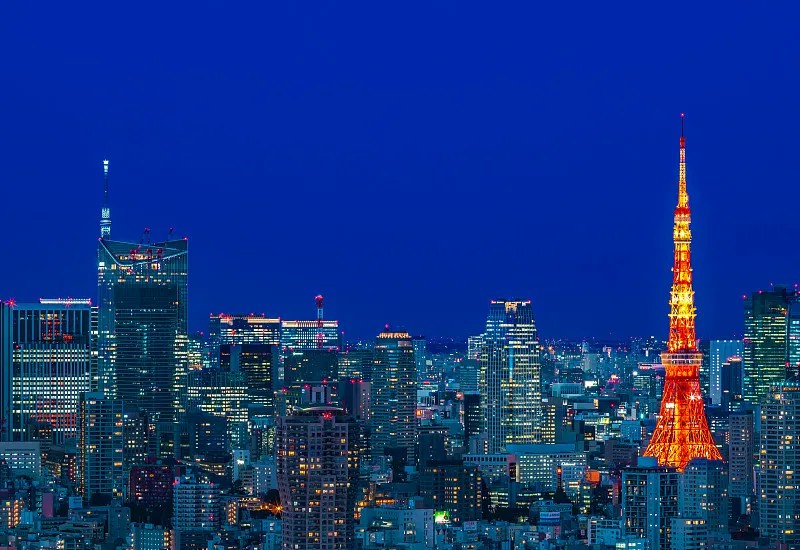Tokyo: (644, 114, 723, 471)
